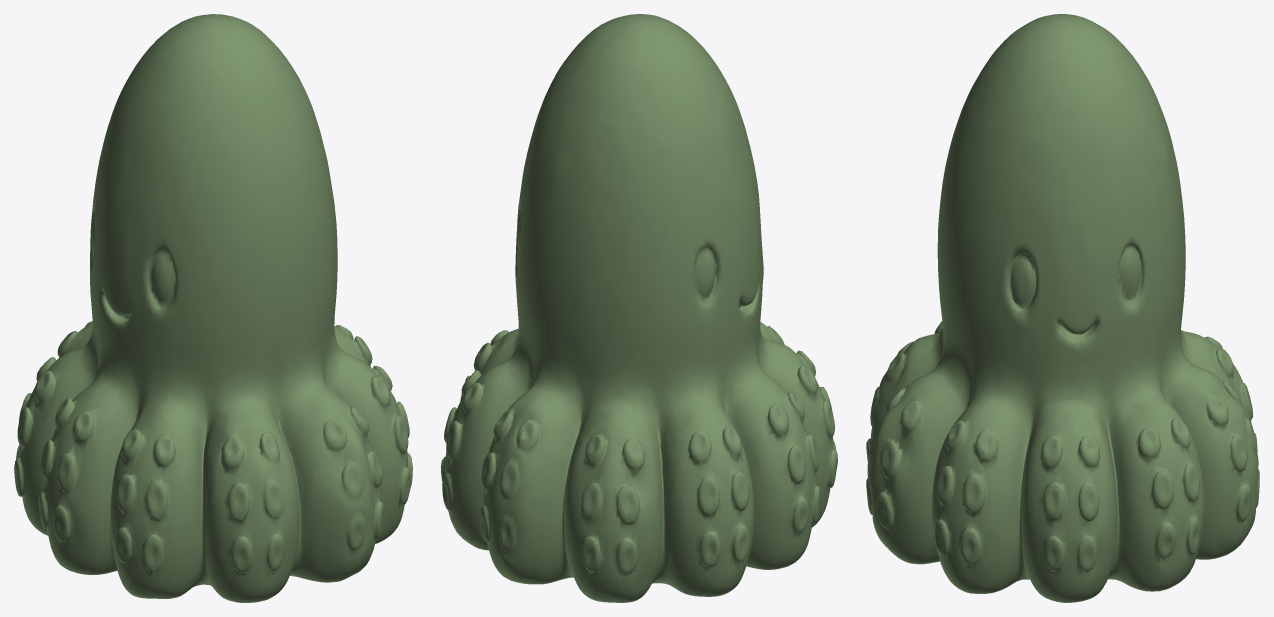
Rendered from octopus-friend.glb.
The picture shows the model from 3 angles, left to right: view 1: azimuth 30°, elevation 25°; view 2: azimuth 150°, elevation 25°; view 3: azimuth 270°, elevation 25°; orthographic projection.
Visible parts, largest first — view 1: tripo_printable_source; view 2: tripo_printable_source; view 3: tripo_printable_source.
Boxes of the visible parts, x1,y1,x2,y2 form: tripo_printable_source: [14, 14, 412, 602]; tripo_printable_source: [441, 14, 837, 602]; tripo_printable_source: [866, 14, 1259, 602].
Bounding box in the file's own units: 69.98 × 100 × 70.
